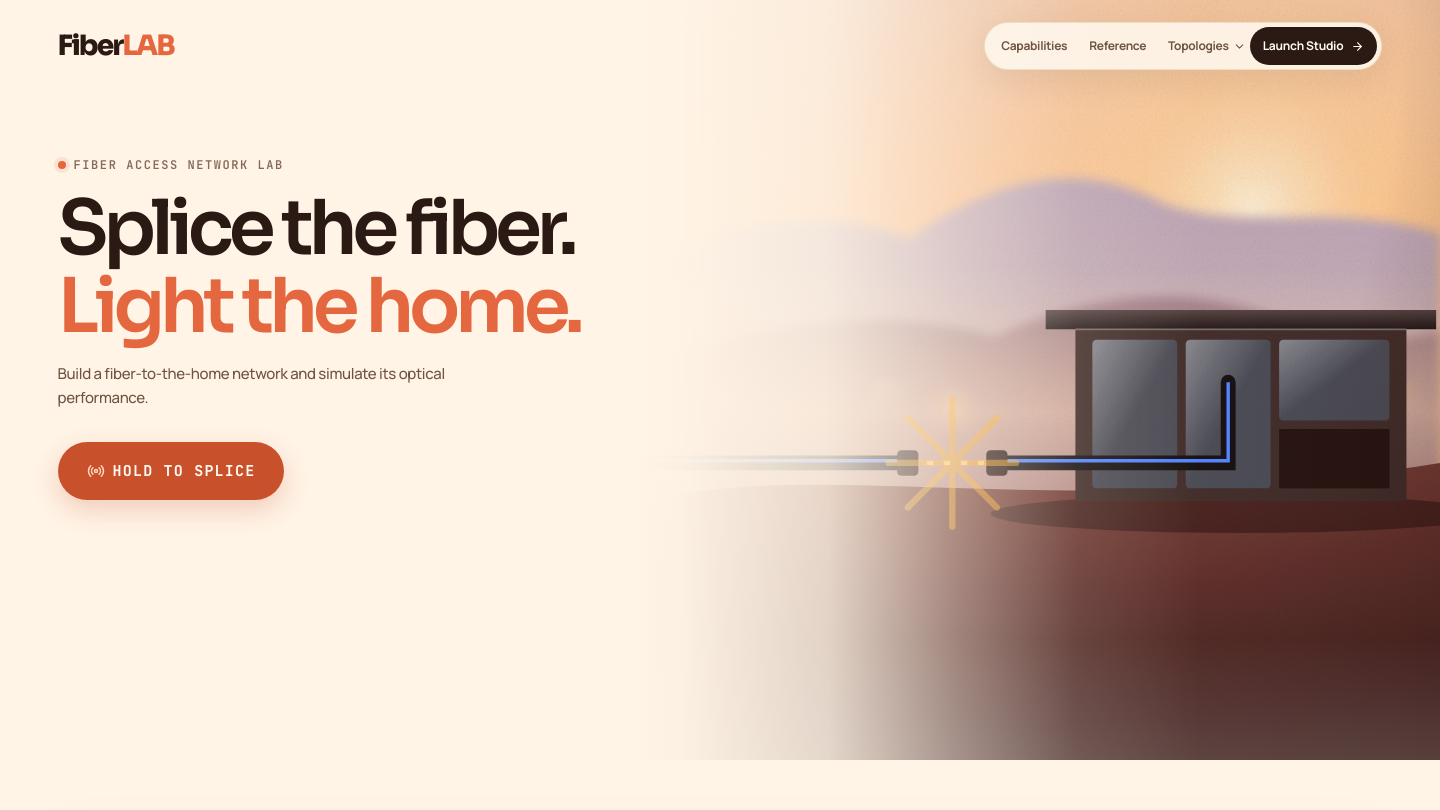
it: link mode as a tap-to-patch tool › leaves link mode after a single-cord pair so the next tap selects again
Step 1. Click the button "Launch Studio" → [1314, 46], box [1250, 27, 1377, 65]
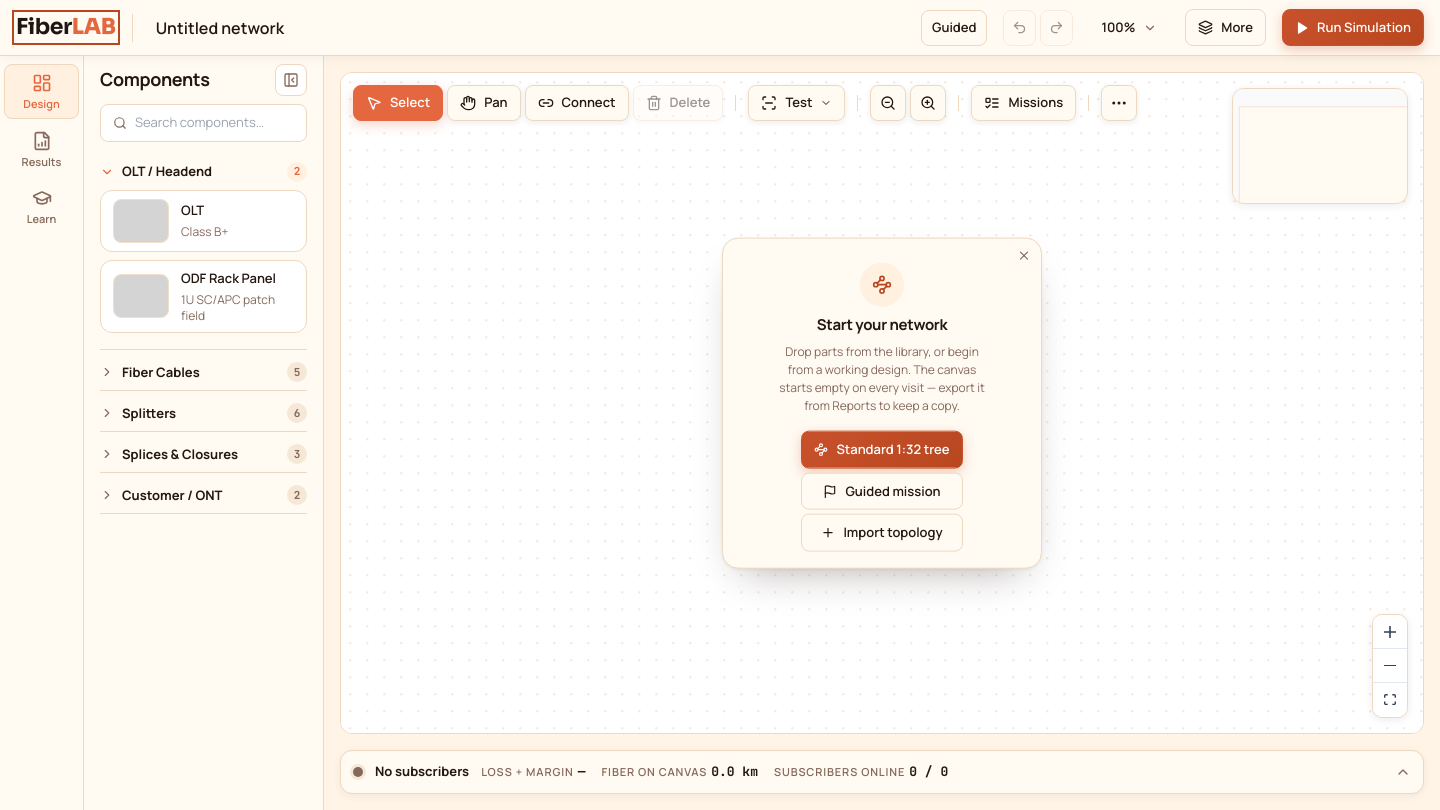
Step 2. Click the button "Standard 1:32 tree" → [882, 450], box [801, 431, 963, 468]
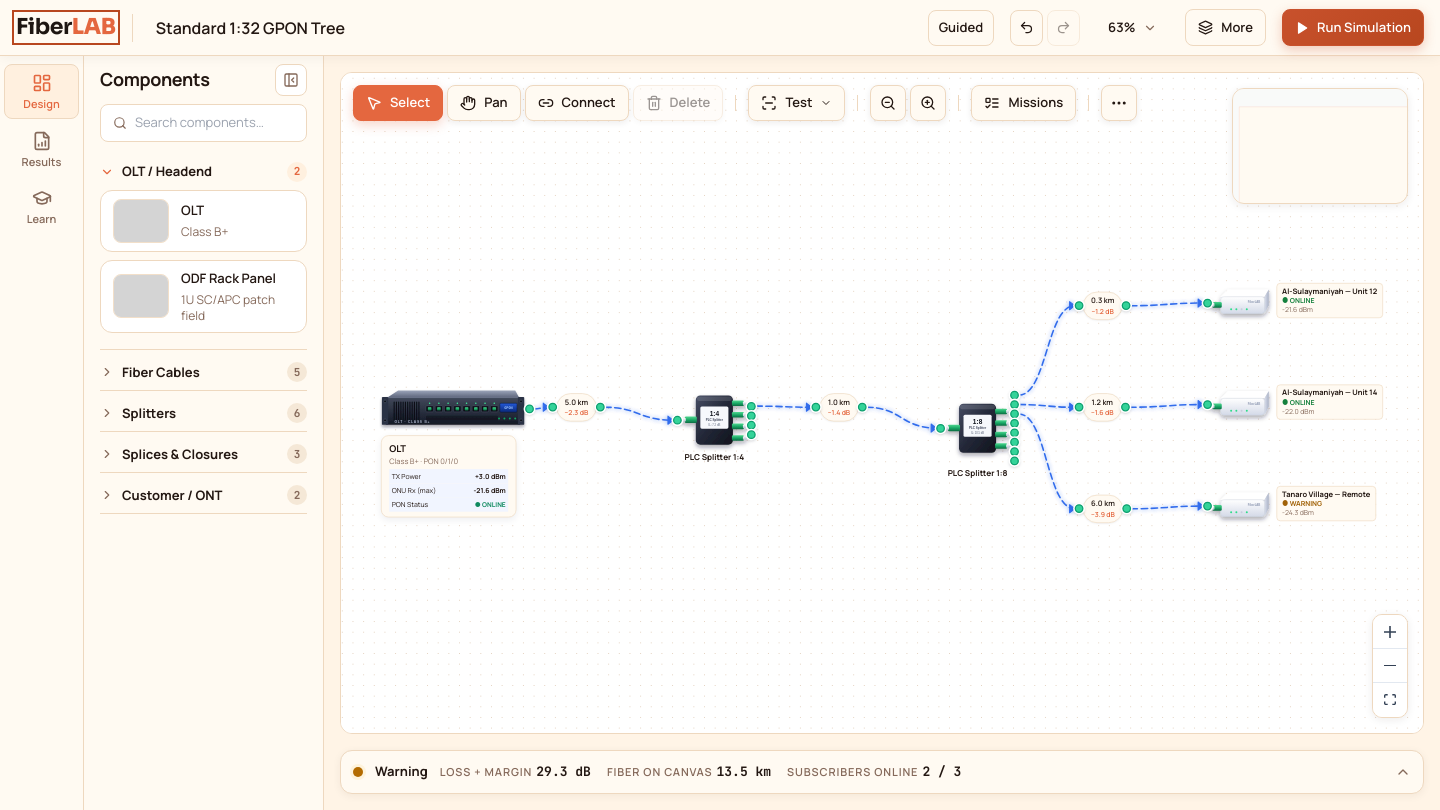
expect the text "Al-Sulaymaniyah — Unit 12" is shown: met, box [1282, 286, 1377, 296]
Step 3. Click the button with aria-label "Link nodes" → [576, 103], box [524, 85, 628, 121]
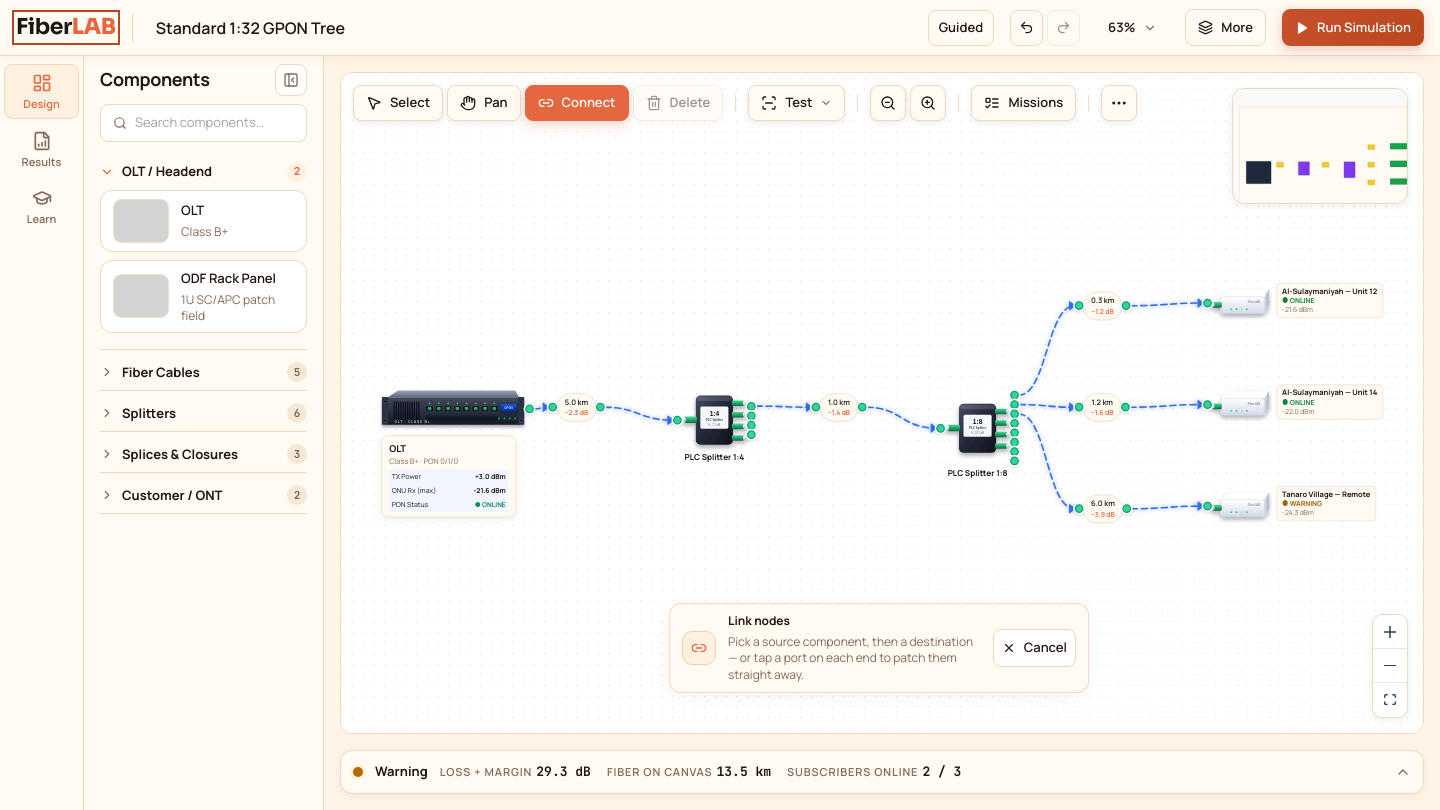
Step 4. Click the element that starts with "GPON" → [453, 452], box [381, 387, 525, 518]
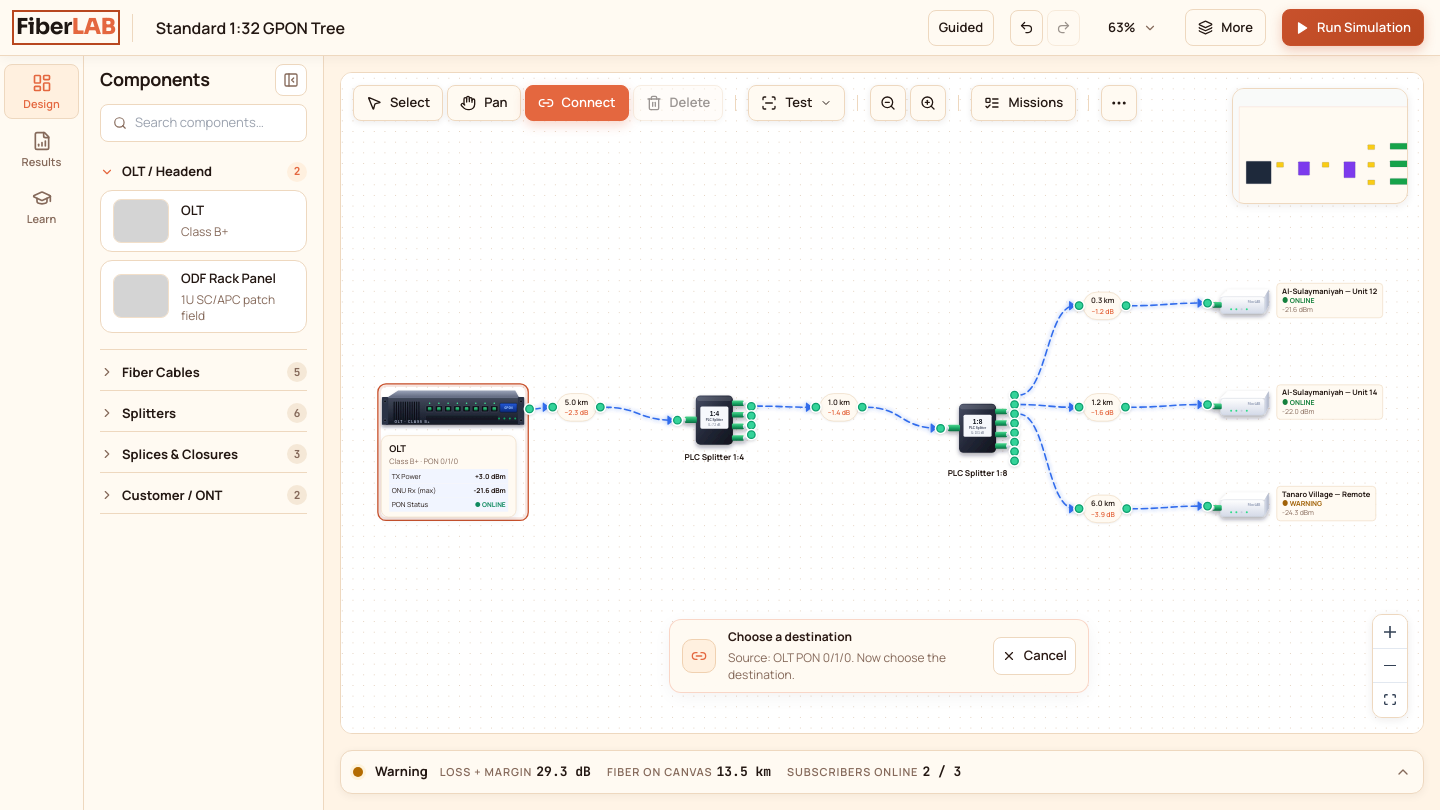
Step 5. Click the text "5.0 km −2.3 dB" → [576, 407], box [556, 393, 596, 421]
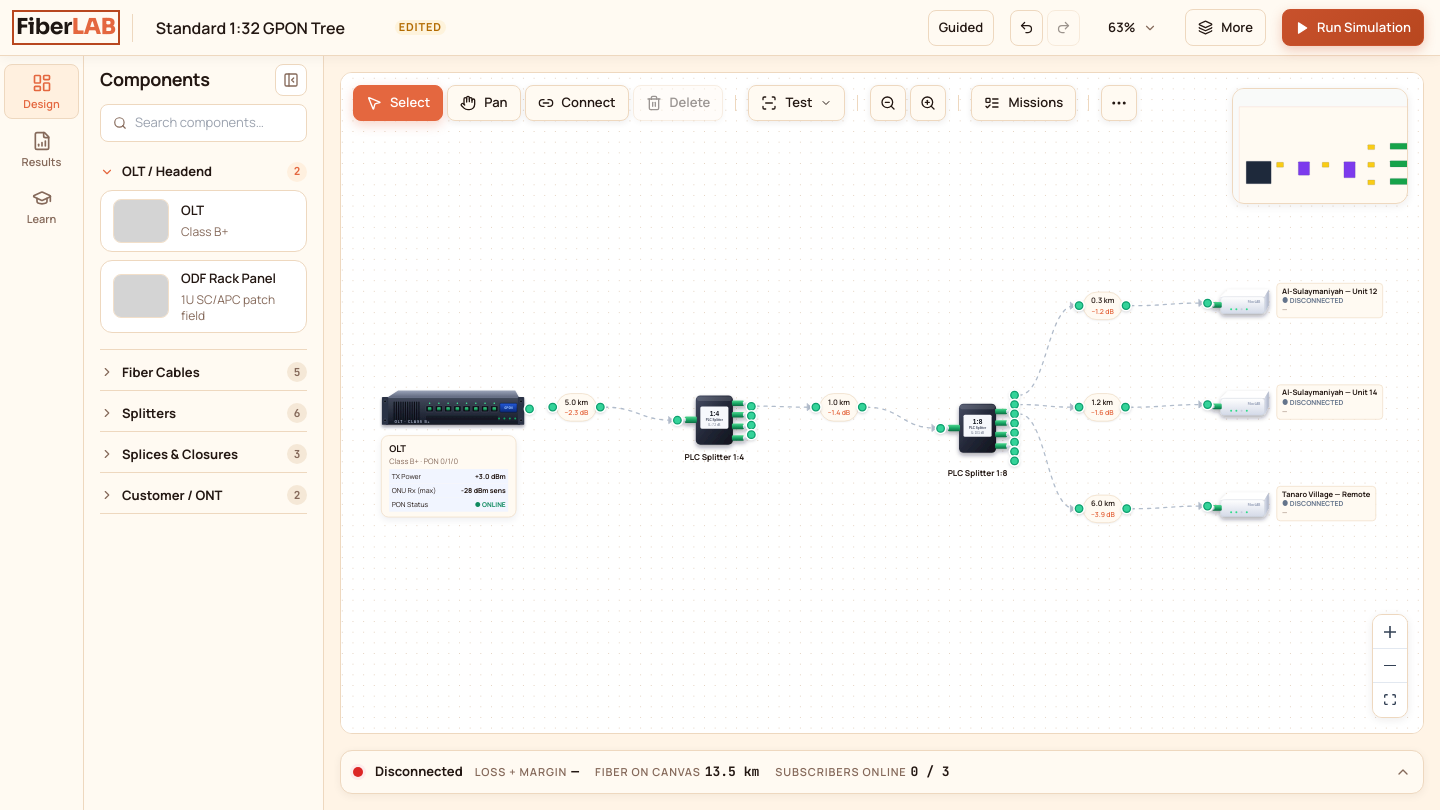
expect the text "Now choose the destination" is gone: met
